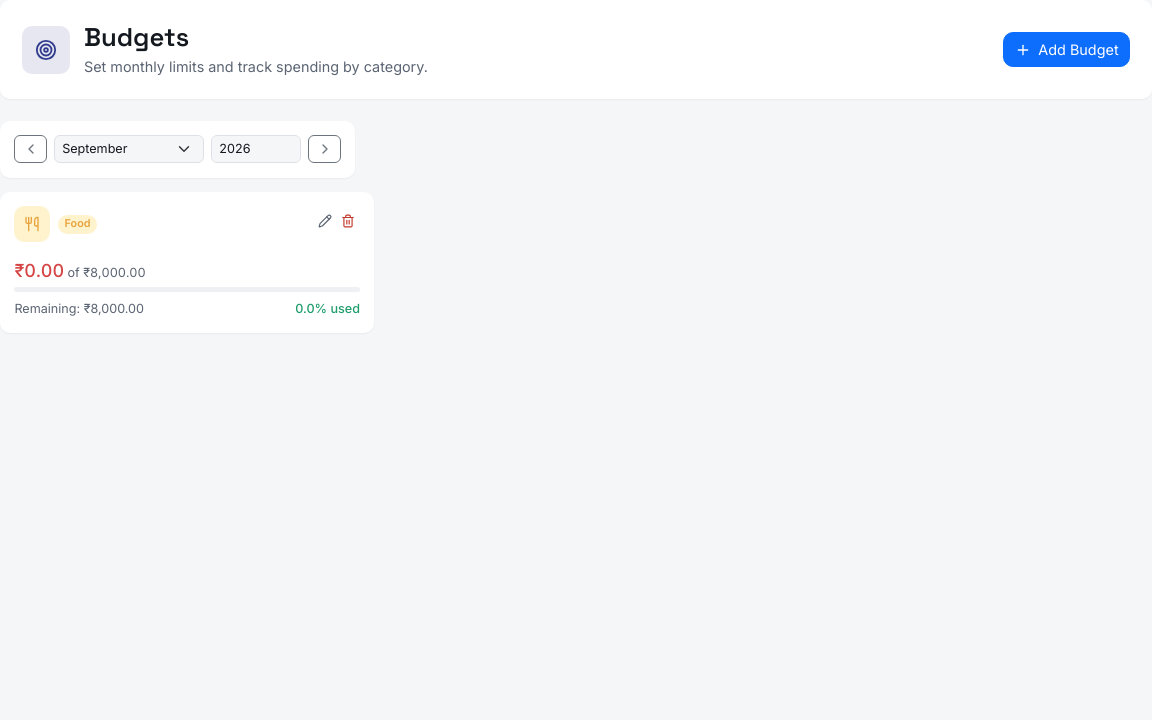
it: Budgets page › budget-edit threshold toast › shows no threshold toast when a budget edit lowers the tier
This screenshot has width=1152, height=720.
Step 1. Click the button named "edit" → (325, 220), box [314, 206, 337, 234]
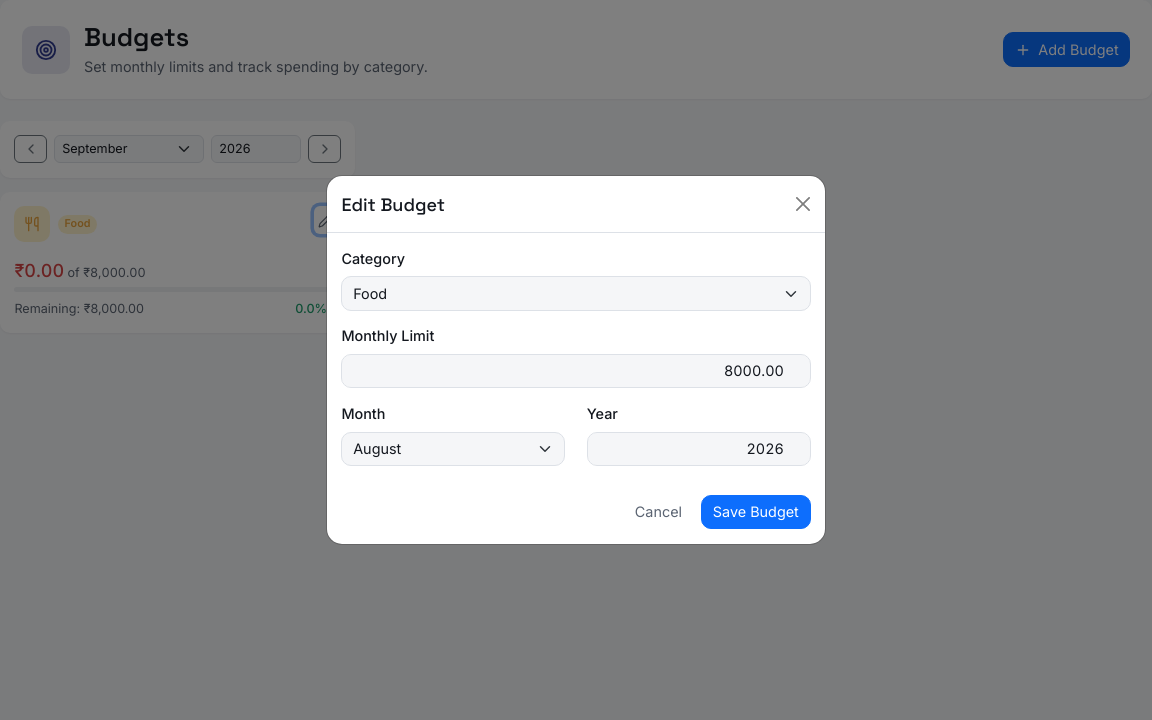
Step 2. Replace the text in the number field labelled "Monthly Limit" with "20000" → (576, 371), box [341, 354, 811, 388]
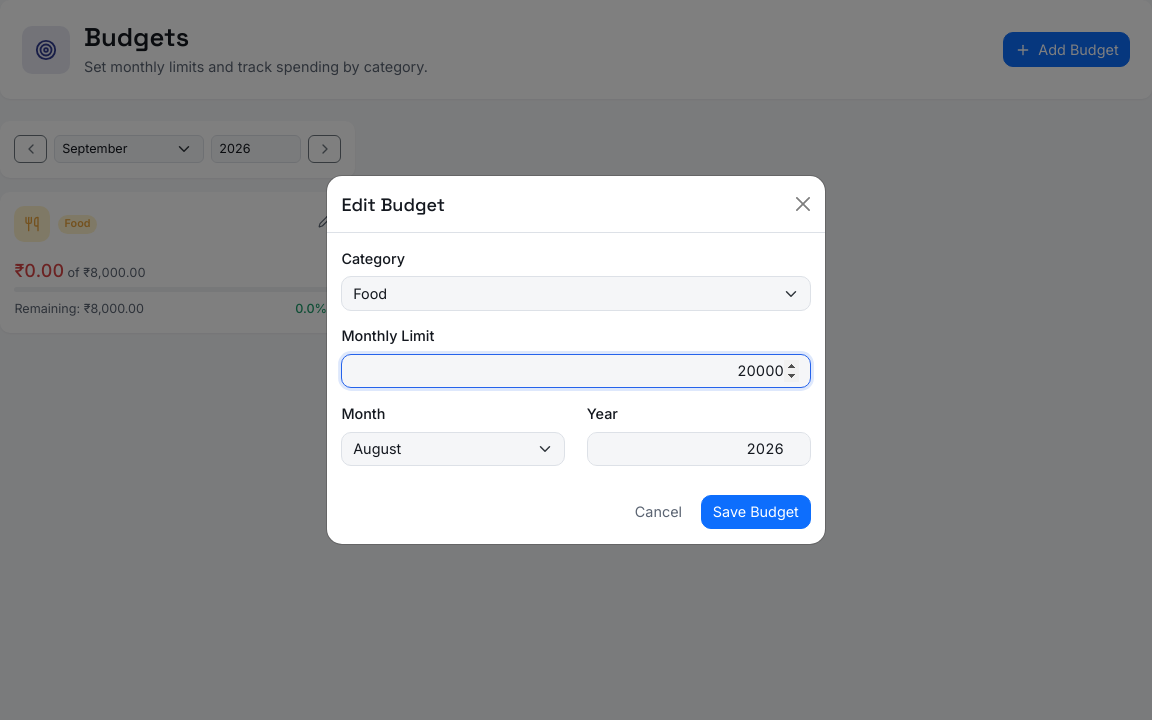
Step 3. Click the button "Save Budget" → (756, 512), box [701, 495, 811, 529]
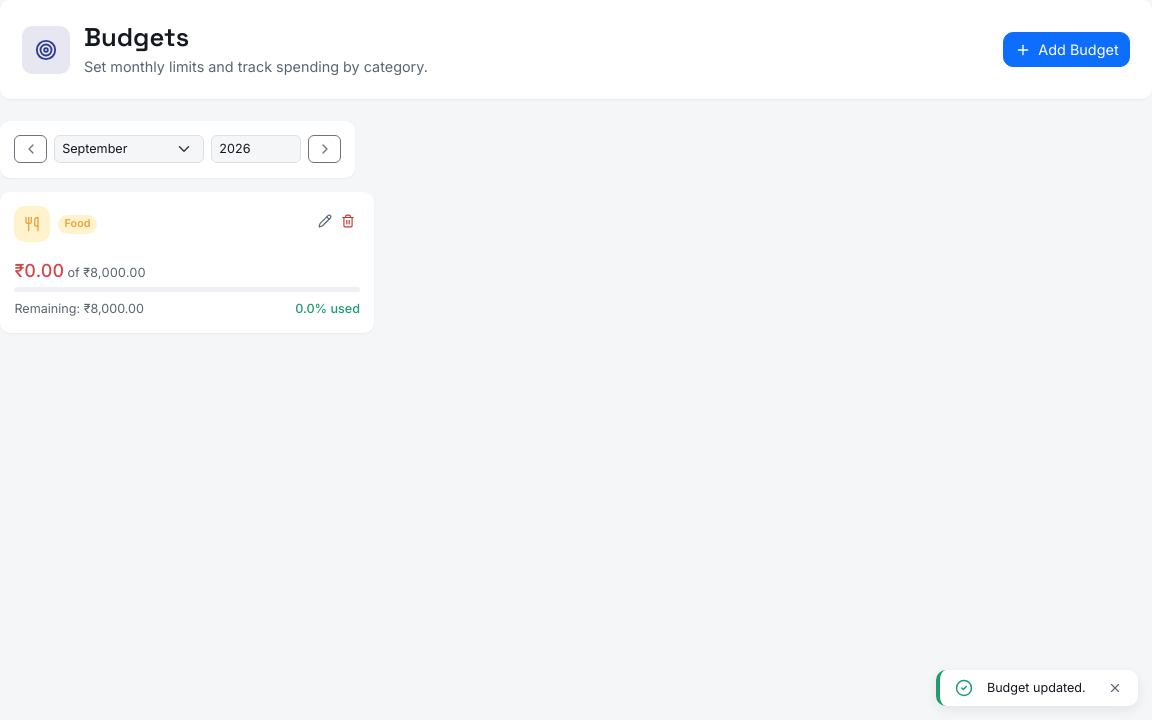
Result: the text "Budget updated." is shown at [987, 678, 1086, 697]
